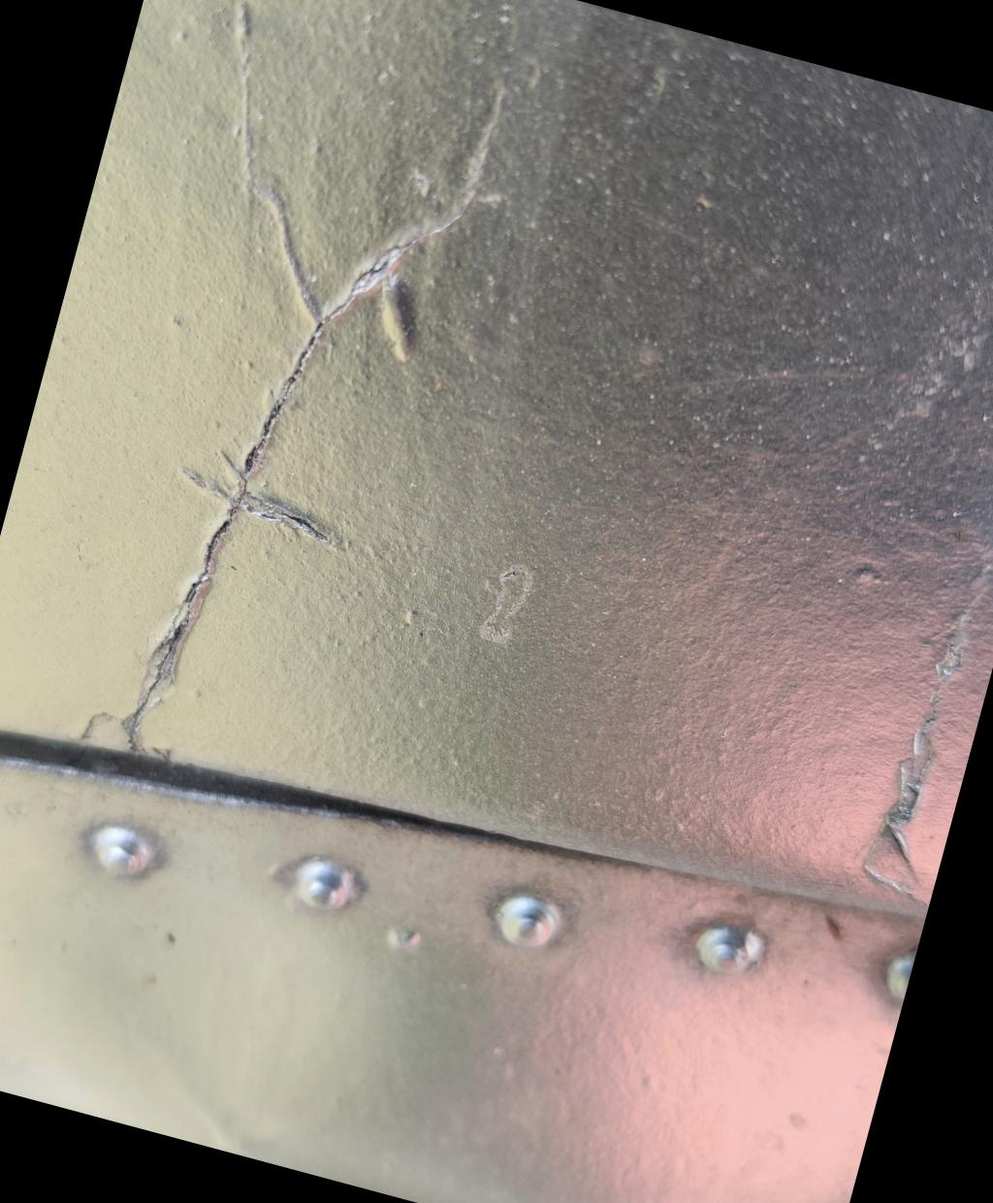crack: (53, 0, 563, 844)
